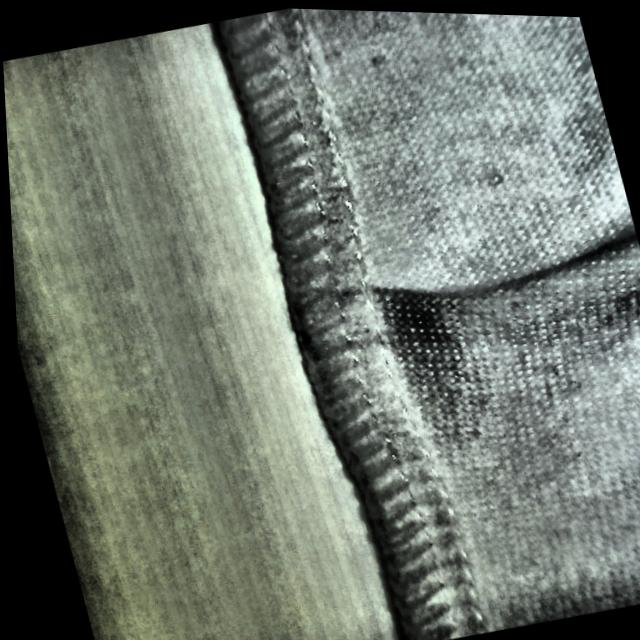seam: (269, 188, 613, 411)
